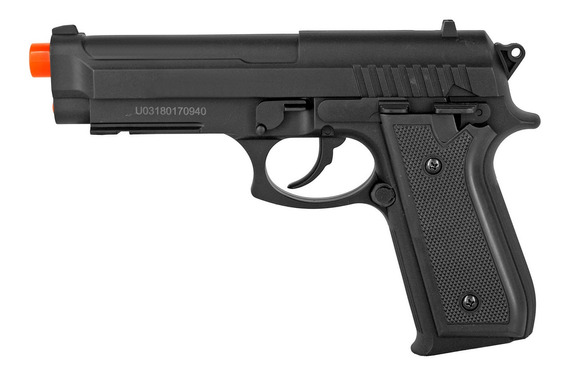Arma Falsa: (27, 21, 549, 355)
